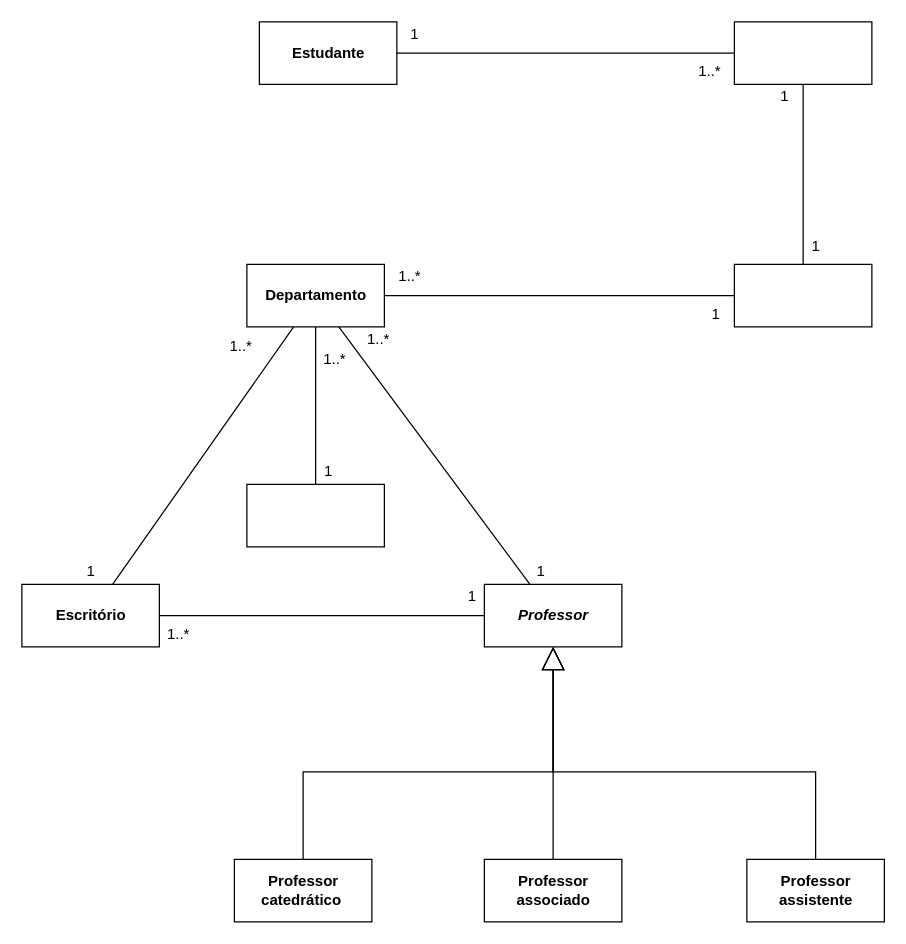
Some shapes in this 906 by 944 pixel diagram are drawn without their labels. The centre of each missing label's shape, as x and y in pixels:
Curso: the point at 802,52
Sala de aula: the point at 315,515
Universidade: the point at 802,295
